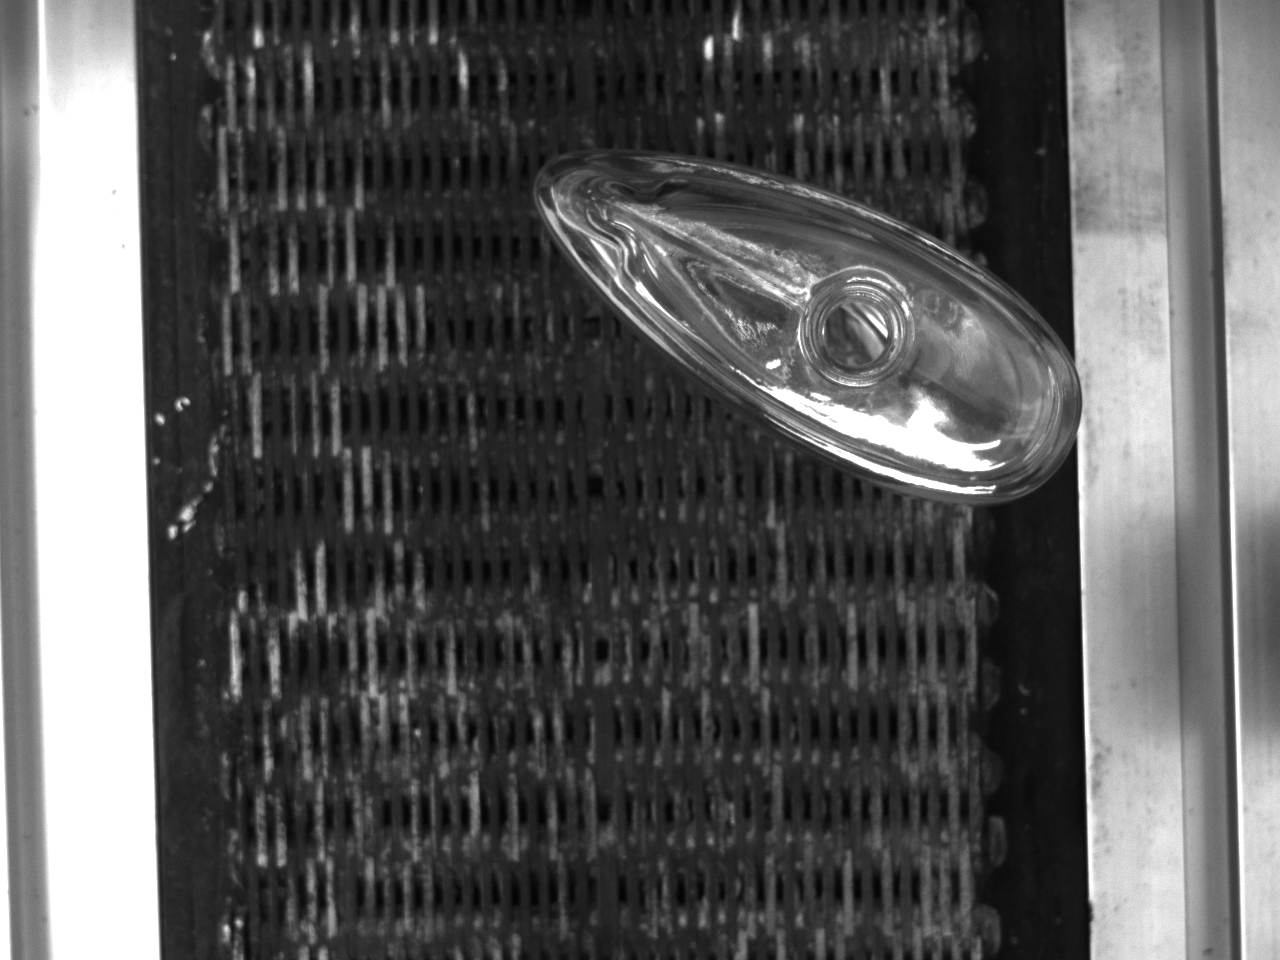bottleneck: (797, 276, 918, 389)
